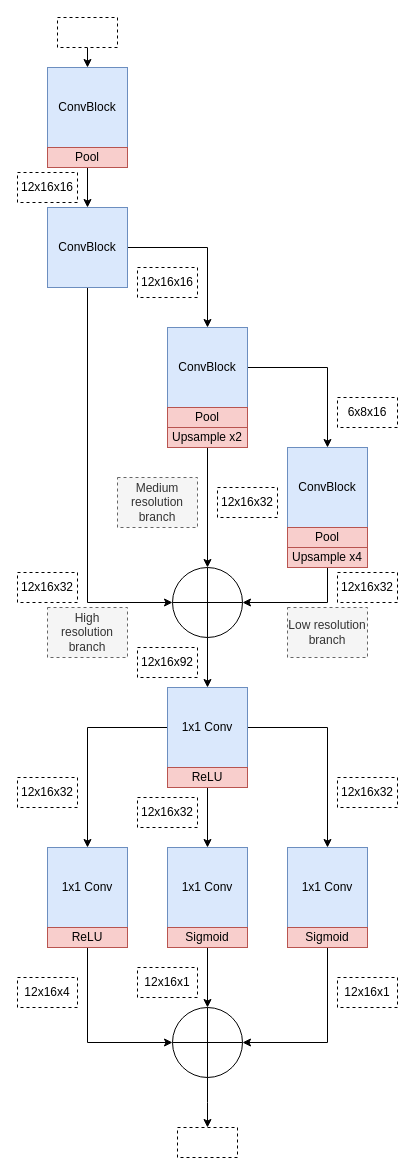
The diagram is 415 pixels wide and 1175 high, and some of its shapes have lost their labels. The shapes that lost their labels are listed below. From the top down, each one's box as (x1, y1, x2, y2) in pixels, then its label:
(56, 16, 118, 48): 24x32x1
(176, 1126, 238, 1158): 12x16x6
